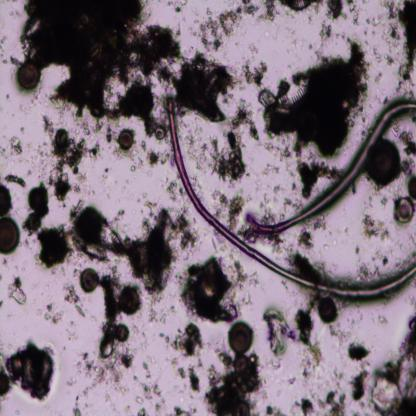Background material: (17, 1, 175, 129), (37, 198, 176, 300), (259, 39, 368, 154), (89, 274, 138, 387), (40, 113, 100, 202), (179, 249, 245, 323), (371, 316, 416, 416), (0, 334, 59, 408), (176, 51, 236, 122), (200, 2, 277, 53), (203, 349, 262, 415), (386, 0, 416, 83), (294, 153, 341, 200), (201, 136, 249, 182), (294, 304, 323, 380), (263, 306, 297, 361), (288, 387, 348, 416), (136, 359, 166, 415), (20, 182, 49, 238), (283, 248, 328, 282), (164, 321, 202, 361), (230, 97, 262, 143), (212, 185, 243, 230), (172, 209, 198, 255), (185, 117, 206, 169), (68, 348, 92, 389), (62, 281, 88, 318), (360, 212, 390, 243), (356, 251, 389, 279), (263, 138, 302, 159), (6, 272, 27, 308), (257, 191, 278, 227), (147, 298, 176, 324), (349, 366, 371, 400), (234, 260, 257, 292), (176, 366, 202, 394), (160, 180, 185, 209), (346, 334, 371, 362), (137, 191, 159, 222), (243, 61, 267, 87), (314, 22, 332, 56), (0, 134, 25, 158), (400, 126, 416, 159), (324, 1, 347, 23), (3, 170, 26, 191), (146, 148, 168, 169), (46, 301, 64, 326), (329, 328, 350, 347), (382, 1, 400, 22), (297, 229, 316, 248), (62, 324, 82, 342), (326, 362, 344, 382), (96, 162, 112, 184), (363, 16, 380, 36), (170, 402, 198, 414), (369, 43, 383, 66), (348, 2, 361, 26), (260, 162, 280, 177), (263, 402, 286, 415), (71, 390, 82, 415), (401, 157, 414, 176), (388, 24, 400, 43), (168, 1, 188, 12), (384, 53, 396, 66)
Diatom: (367, 139, 403, 183), (270, 74, 312, 110), (227, 320, 254, 356), (17, 61, 41, 92), (0, 217, 20, 254), (392, 194, 414, 226), (119, 284, 140, 314), (318, 295, 338, 325), (80, 269, 99, 291), (280, 0, 313, 12), (0, 184, 12, 217), (117, 127, 134, 150), (407, 172, 416, 200), (237, 400, 250, 416), (156, 124, 166, 139)
Microfibre: (167, 95, 416, 299)
